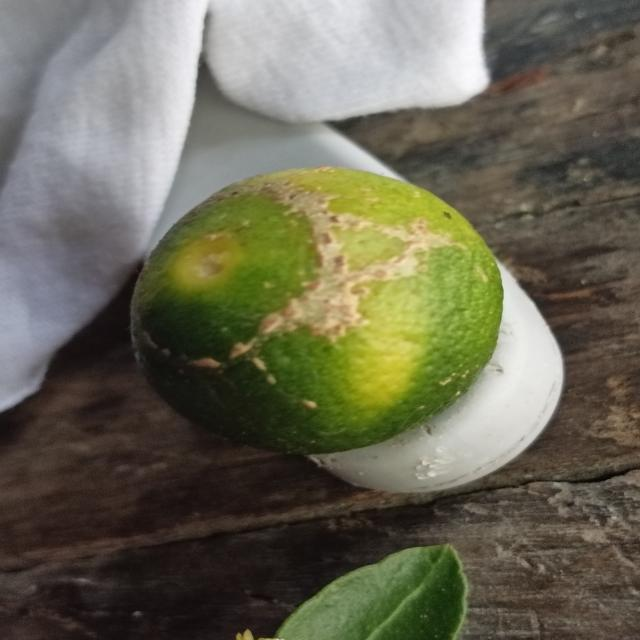thrips: (119, 160, 502, 459)
